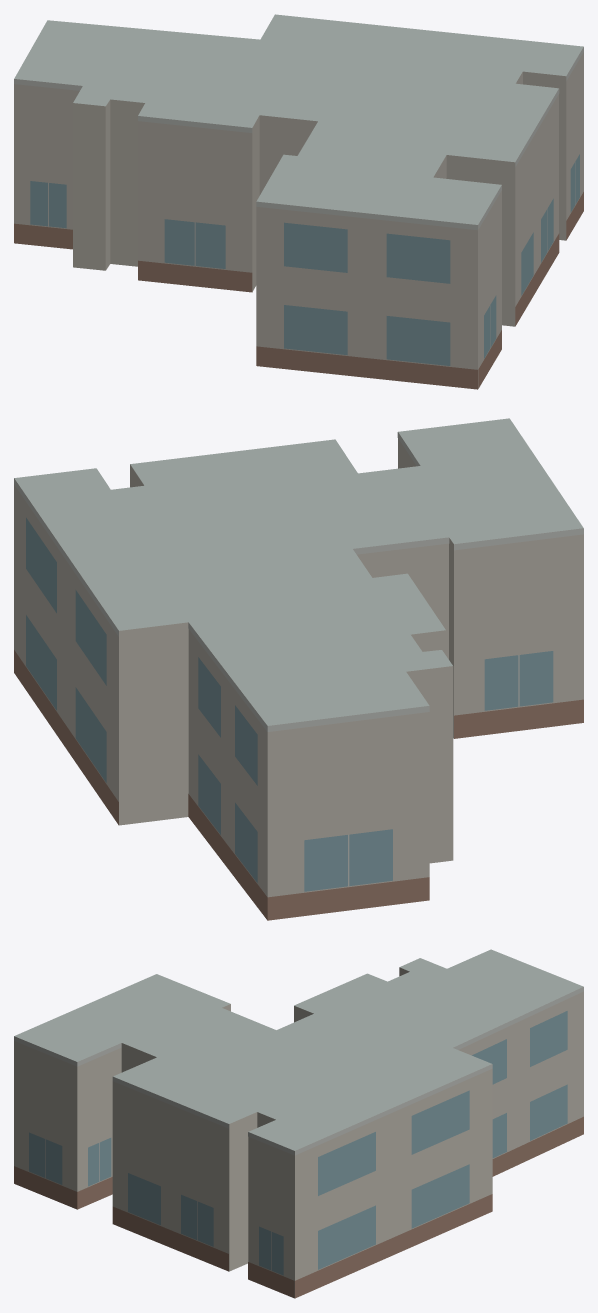
The model's file is survey-upis-32867241.glb.
The picture shows the model from 3 angles, top to bottom: view 1: azimuth 30°, elevation 25°; view 2: azimuth 150°, elevation 25°; view 3: azimuth 270°, elevation 25°; orthographic projection. The views are drawn at different scales.
Visible parts, largest first — view 1: survey-upis-32867241.tmp; view 2: survey-upis-32867241.tmp; view 3: survey-upis-32867241.tmp.
Boxes of the visible parts, x1,y1,x2,y2 form: survey-upis-32867241.tmp: (14,14,583,389); survey-upis-32867241.tmp: (14,418,583,920); survey-upis-32867241.tmp: (14,949,583,1298).
Size of the model in its own units: 22.57 by 7.7 by 26.96.
